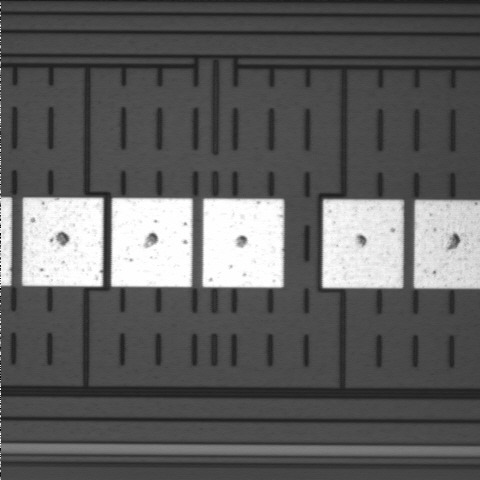pad: (202, 199, 284, 288), (111, 198, 192, 287), (22, 198, 103, 286), (322, 200, 403, 288)
